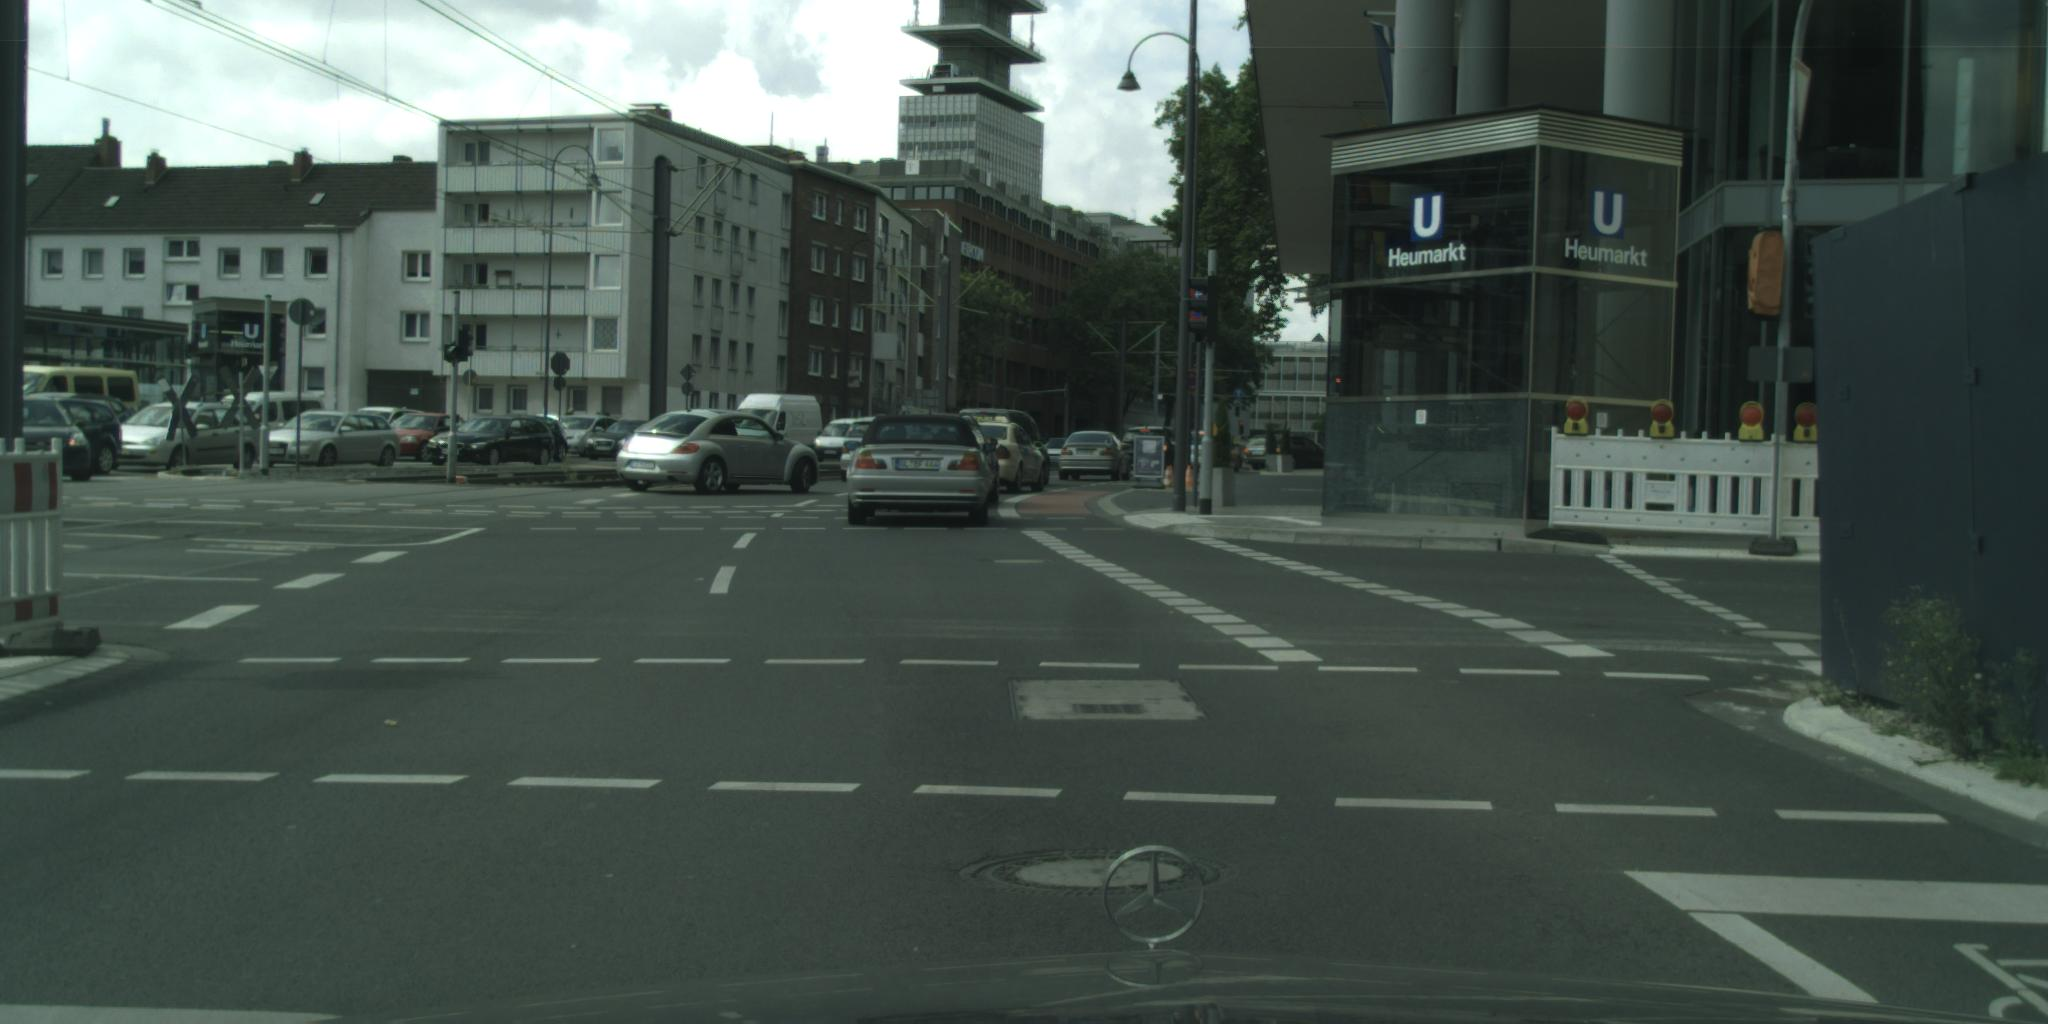car: (616, 408, 823, 498), (844, 413, 1000, 530), (112, 397, 259, 475), (253, 408, 405, 472), (31, 393, 124, 478), (957, 415, 1051, 496), (961, 408, 1053, 486), (428, 414, 562, 468), (20, 398, 97, 486), (25, 366, 144, 418), (726, 392, 825, 451), (219, 391, 336, 438), (389, 411, 472, 466), (1058, 430, 1132, 485), (1240, 434, 1341, 472), (549, 413, 616, 458), (585, 415, 648, 461), (517, 413, 571, 464), (840, 419, 879, 485), (814, 418, 856, 464), (357, 405, 428, 428), (1042, 435, 1072, 468)
